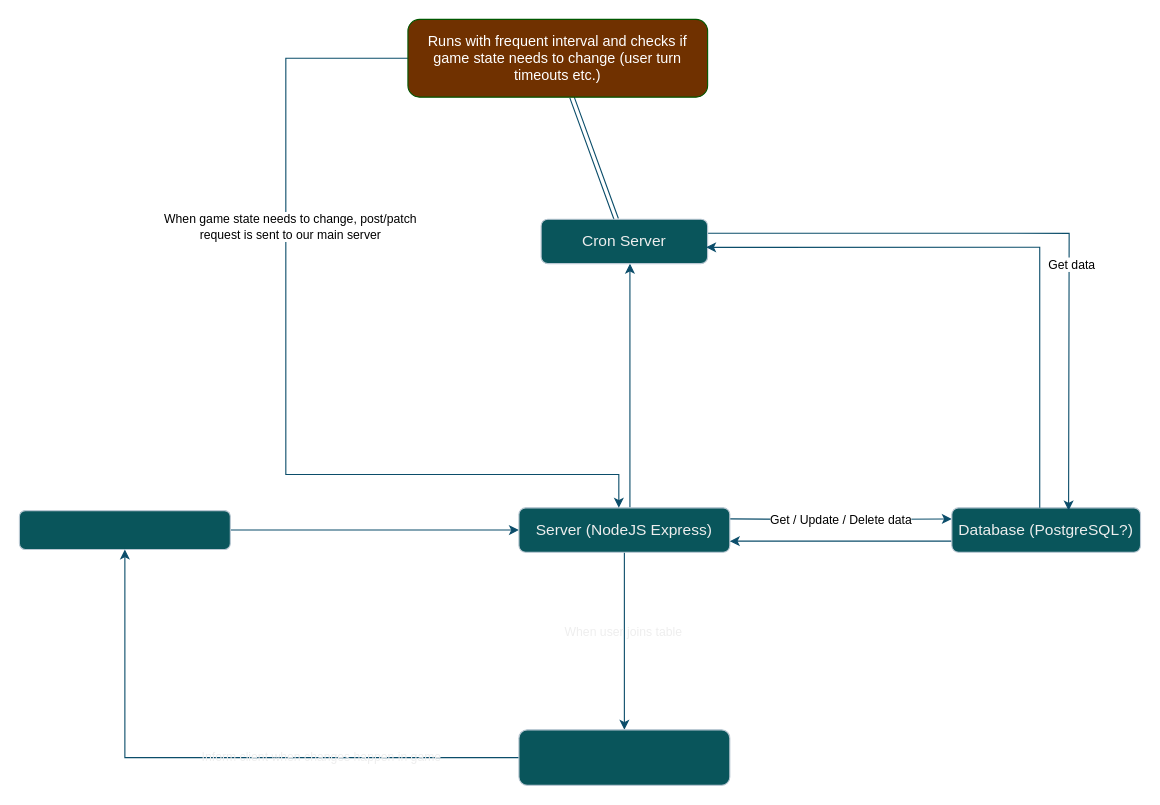
The diagram is 1160 pixels wide and 805 high, and some of its shapes have lost their labels. Each missing label, with the box of its shape:
Client: (18, 509, 230, 549)
Websocket (Signal R): (518, 729, 730, 785)
